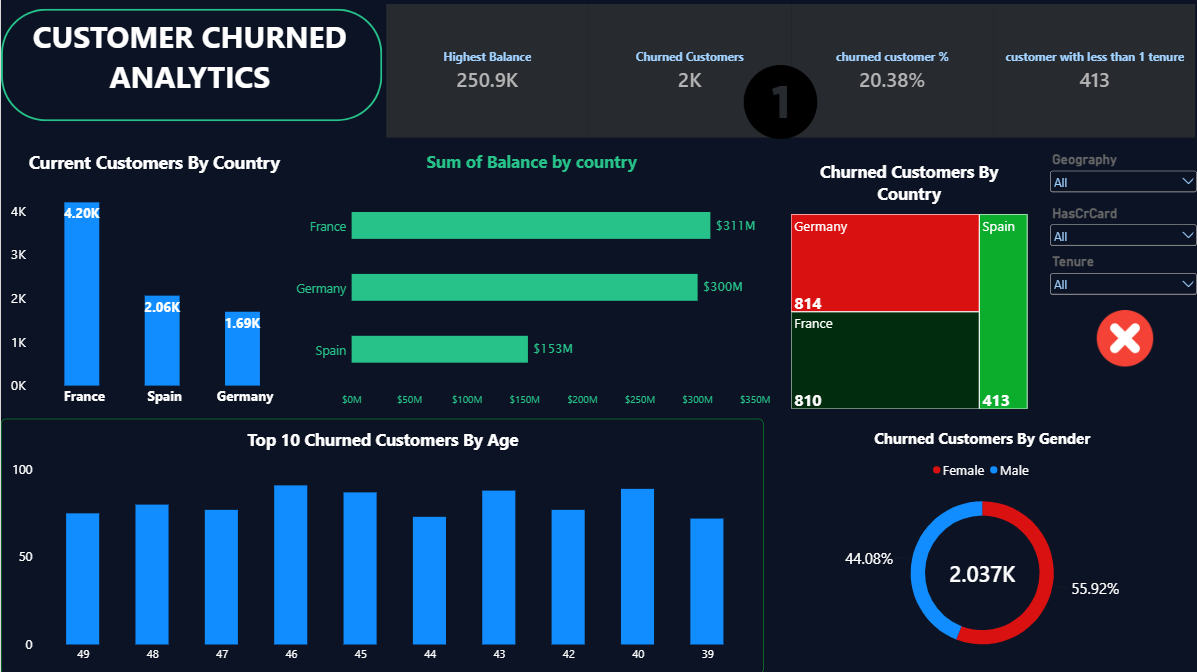

Layout of this report page (visuals, bound fields, positions):
{"tool":"powerbi","page":{"name":"Page 1","canvas":[1920,1080],"ordinal":0},"visuals":[{"type":"shape","box":[0,14,610,180],"z":0},{"type":"slicer","fields":{"Values":["D (Customer_Info).Geography"]},"box":[1674,242,246,86],"z":0,"group":"g1"},{"type":"textbox","box":[46,24,512,146],"z":1000},{"type":"slicer","fields":{"Values":["fact ( account info ).HasCrCard"]},"box":[1674,328,246,86],"z":1000,"group":"g1"},{"type":"clusteredBarChart","title":"Sum of Balance by country","fields":{"Category":["D (Customer_Info).Geography"],"Y":["Sum(fact ( account info ).Balance)"]},"box":[450,226,798,446],"z":2000},{"type":"slicer","fields":{"Values":["D (Customer_Info).Tenure"]},"box":[1674,406,246,98],"z":2000,"group":"g1"},{"type":"treemap","title":"Churned Customers By Country","fields":{"Group":["D (Customer_Info).Geography"],"Values":["DAX.Churned Customers"]},"box":[1248,242,410,428],"z":3000},{"type":"clusteredColumnChart","title":"Current Customers By Country","fields":{"Category":["D (Customer_Info).Geography"],"Series":["fact ( account info ).Exited"],"Y":["CountNonNull(D (Customer_Info).CustomerId)"]},"box":[0,226,490.1,444.6],"z":4000},{"type":"clusteredColumnChart","title":"Top 10 Churned Customers By Age  ","fields":{"Category":["D (Customer_Info).Age"],"Y":["DAX.Churned Customers"]},"box":[0,670,1220,410],"z":5000},{"type":"donutChart","title":"Churned Customers By Gender","fields":{"Category":["D (Customer_Info).Gender"],"Y":["CountNonNull(fact ( account info ).Exited)"]},"box":[1220,670,700,410],"z":6000},{"type":"cardVisual","fields":{"Data":["DAX.Highest Balance","DAX.Churned Customers","DAX.churned customer %","DAX.customer with less than 1 tenure"]},"box":[610,0,1310,226],"z":7000},{"type":"group","id":"g1","title":"Group 1","box":[1674,242,246,262],"z":8000},{"type":"image","box":[1722.5,495,152.5,90],"z":10000},{"type":"image","box":[1134,104,226,118],"z":11000}]}

Visuals, with their boxes in screenshot pixels (x1, y1, x2, y2), scaled from the page's 1920x1080 canvas onto the 1197x672 screenshot:
shape: <bbox>0, 9, 380, 121</bbox>
slicer - D (Customer_Info).Geography: <bbox>1044, 151, 1196, 204</bbox>
textbox: <bbox>29, 15, 348, 106</bbox>
slicer - fact ( account info ).HasCrCard: <bbox>1044, 204, 1196, 258</bbox>
"Sum of Balance by country" clusteredBarChart: <bbox>281, 141, 778, 418</bbox>
slicer - D (Customer_Info).Tenure: <bbox>1044, 253, 1196, 314</bbox>
"Churned Customers By Country" treemap: <bbox>778, 151, 1034, 417</bbox>
"Current Customers By Country" clusteredColumnChart: <bbox>0, 141, 306, 417</bbox>
"Top 10 Churned Customers By Age  " clusteredColumnChart: <bbox>0, 417, 761, 671</bbox>
"Churned Customers By Gender" donutChart: <bbox>761, 417, 1196, 671</bbox>
cardVisual - DAX.Highest Balance x DAX.Churned Customers: <bbox>380, 0, 1196, 141</bbox>
"Group 1" group: <bbox>1044, 151, 1196, 314</bbox>
image: <bbox>1074, 308, 1169, 364</bbox>
image: <bbox>707, 65, 848, 138</bbox>
